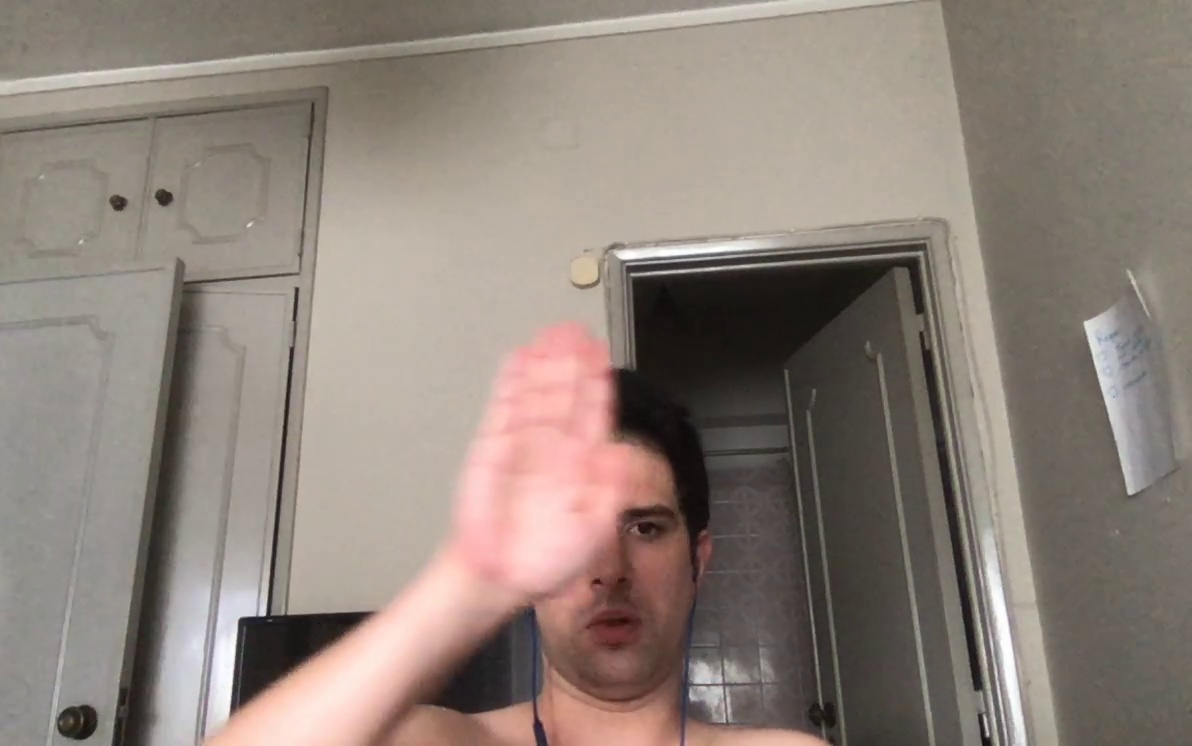b: (442, 316, 629, 596)
